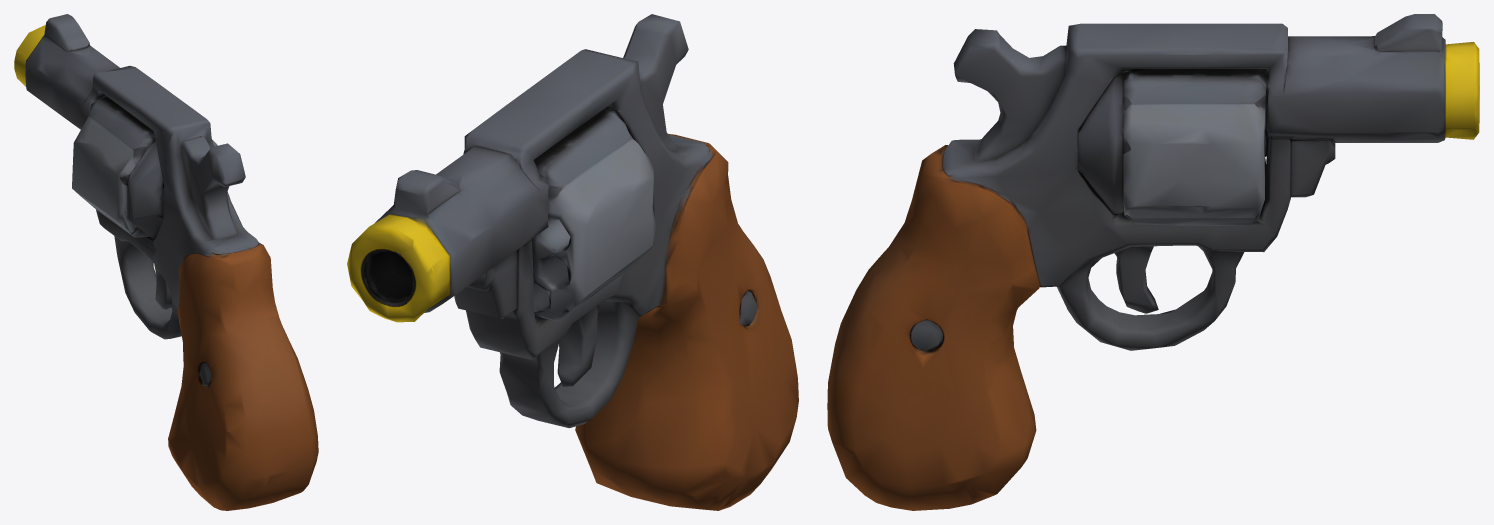
File: hammer44_tripo_raw.glb
3 views of the same model, side by side, from view 1: azimuth 30°, elevation 25°; view 2: azimuth 150°, elevation 25°; view 3: azimuth 270°, elevation 25° (orthographic). The views are drawn at different scales.
Visible parts, largest first — view 1: tripo_node_d595f122-aa7b-4627-8689-4a090ecf0484; view 2: tripo_node_d595f122-aa7b-4627-8689-4a090ecf0484; view 3: tripo_node_d595f122-aa7b-4627-8689-4a090ecf0484.
Boxes of the visible parts, x1=… form: tripo_node_d595f122-aa7b-4627-8689-4a090ecf0484: x1=14, y1=14, x2=318, y2=510; tripo_node_d595f122-aa7b-4627-8689-4a090ecf0484: x1=347, y1=14, x2=798, y2=510; tripo_node_d595f122-aa7b-4627-8689-4a090ecf0484: x1=827, y1=14, x2=1479, y2=510.
Size of the model in its own units: 0.2497 by 0.7984 by 1.
Materials: 1 (1 with a texture image).
